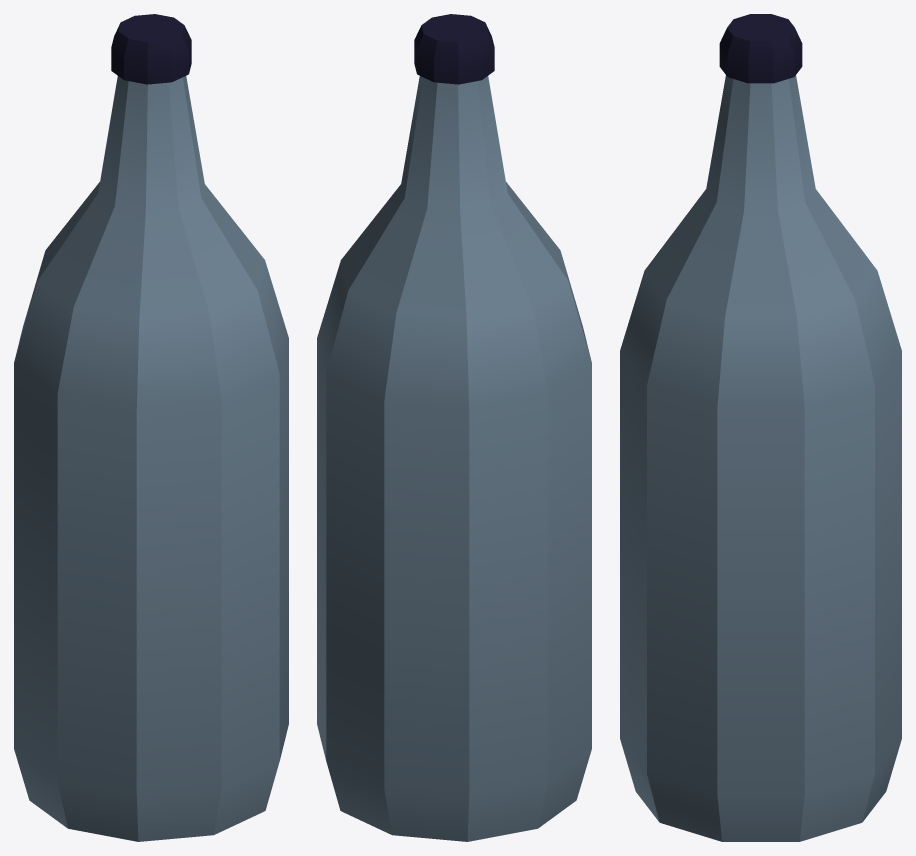
Rendered from butelka.fbx.
3 renders of one model, left to right at view 1: azimuth 30°, elevation 25°; view 2: azimuth 150°, elevation 25°; view 3: azimuth 270°, elevation 25°, orthographic.
Parts seen in each view (by area): view 1: butelki; view 2: butelki; view 3: butelki.
Part boxes in pixels (x1,y1,x2,y2): butelki: (14, 14, 288, 841); butelki: (317, 14, 591, 841); butelki: (620, 14, 901, 841).
Size of the model in its own units: 99.37 by 94.51 by 297.
